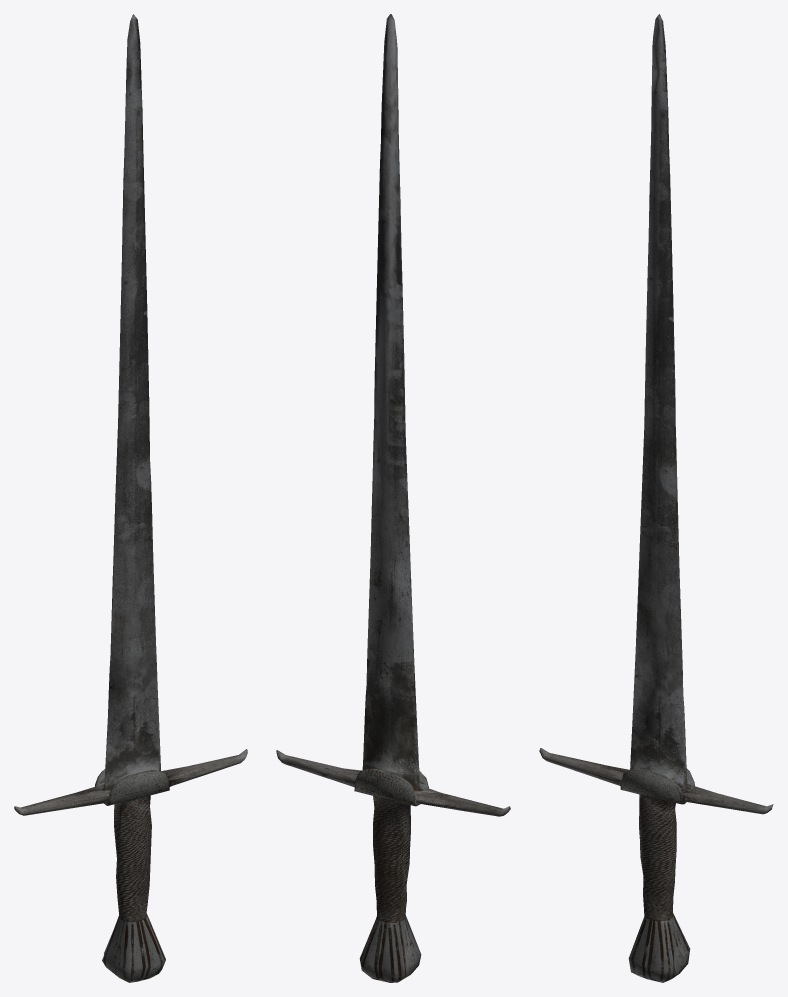
The model's file is sword_uh1fdetfa_low.glb.
3 views of the same model, side by side, from view 1: azimuth 30°, elevation 25°; view 2: azimuth 150°, elevation 25°; view 3: azimuth 330°, elevation 25° (orthographic).
Parts seen in each view (by area): view 1: uh1fdetfa_LOD0_TIER3_000; view 2: uh1fdetfa_LOD0_TIER3_000; view 3: uh1fdetfa_LOD0_TIER3_000.
Part boxes in pixels (x1,y1,x2,y2): uh1fdetfa_LOD0_TIER3_000: (14,14,247,982); uh1fdetfa_LOD0_TIER3_000: (276,14,510,982); uh1fdetfa_LOD0_TIER3_000: (539,14,773,982).
Bounding box in the file's own units: 0.225 × 0.8899 × 0.0454.
1 material, 1 textured.
